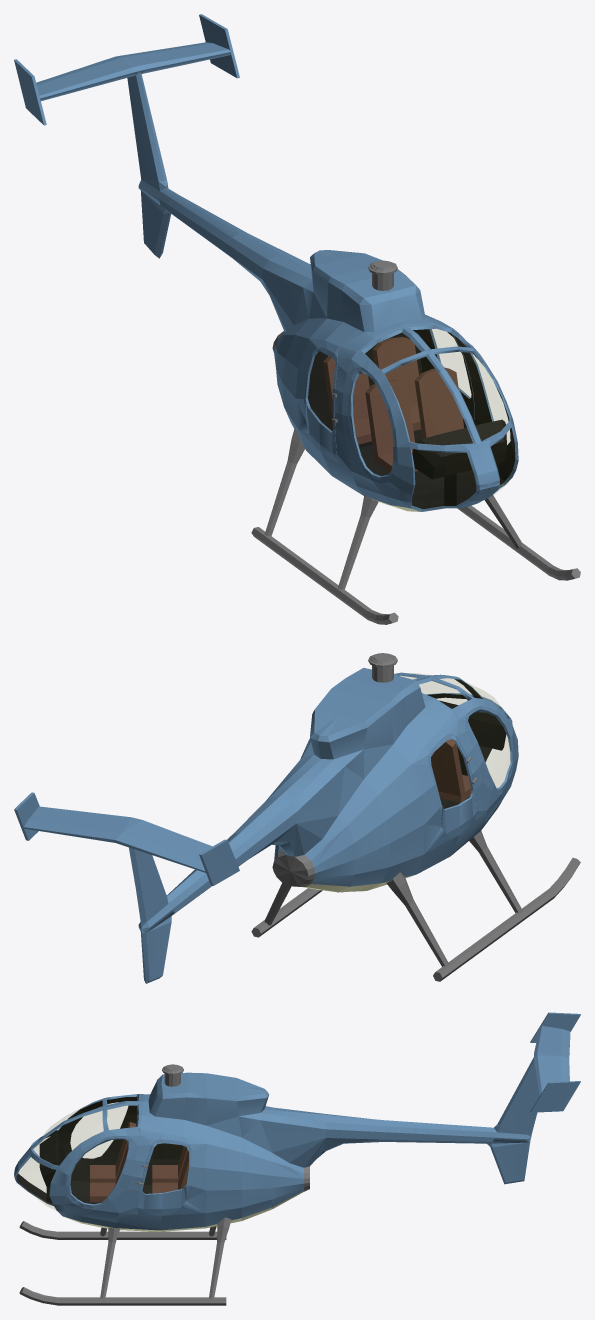
File: aircraft_11.glb
The picture shows the model from 3 angles, top to bottom: view 1: azimuth 30°, elevation 25°; view 2: azimuth 150°, elevation 25°; view 3: azimuth 270°, elevation 25°; orthographic projection. The views are drawn at different scales.
Visible parts, largest first — view 1: Fuselage, seat, instrument panel, seat back row, Door Right; view 2: Fuselage, seat, Door Right, instrument panel, RotorShaft; view 3: Fuselage, Door Left, seat, seat back row, instrument panel, Door Right, RotorShaft.
Part boxes in pixels (left/top/right/bottom): Fuselage: left=14, top=14, right=580, bottom=624; seat: left=365, top=367, right=463, bottom=472; instrument panel: left=412, top=419, right=506, bottom=505; seat back row: left=323, top=337, right=421, bottom=444; Door Right: left=304, top=347, right=337, bottom=453; Fuselage: left=14, top=667, right=580, bottom=983; seat: left=431, top=739, right=471, bottom=802; Door Right: left=427, top=733, right=477, bottom=833; instrument panel: left=439, top=700, right=506, bottom=775; RotorShaft: left=368, top=653, right=397, bottom=682; Fuselage: left=14, top=1012, right=580, bottom=1305; Door Left: left=137, top=1139, right=191, bottom=1209; seat: left=90, top=1122, right=136, bottom=1202; seat back row: left=152, top=1146, right=188, bottom=1193; instrument panel: left=39, top=1132, right=64, bottom=1204; Door Right: left=150, top=1143, right=183, bottom=1159; RotorShaft: left=162, top=1064, right=183, bottom=1086.
Bounding box in the file's own units: 2.63 × 3.88 × 8.9.
